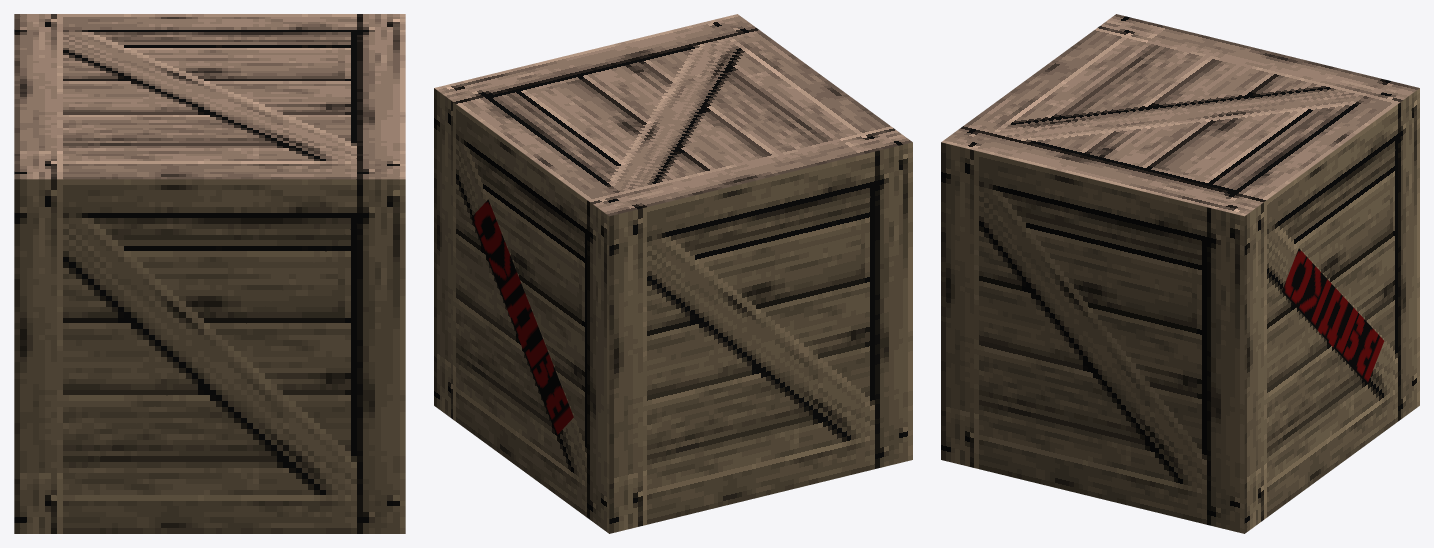
The model's file is primary_028.glb.
The picture shows the model from 3 angles, left to right: view 1: azimuth 30°, elevation 25°; view 2: azimuth 150°, elevation 25°; view 3: azimuth 270°, elevation 25°; orthographic projection. The views are drawn at different scales.
Parts seen in each view (by area): view 1: Object; view 2: Object; view 3: Object.
Part boxes in pixels (x1=…): Object: x1=14, y1=14, x2=405, y2=533; Object: x1=434, y1=14, x2=912, y2=533; Object: x1=941, y1=14, x2=1419, y2=533.
Bounding box in the file's own units: 1.42 × 1.04 × 1.42.
Materials: 7 (7 with a texture image).
